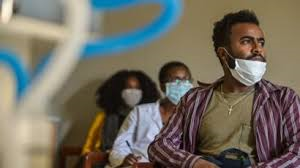mask_weared_incorrect: (218, 24, 270, 88)
with_mask: (162, 70, 193, 103)
